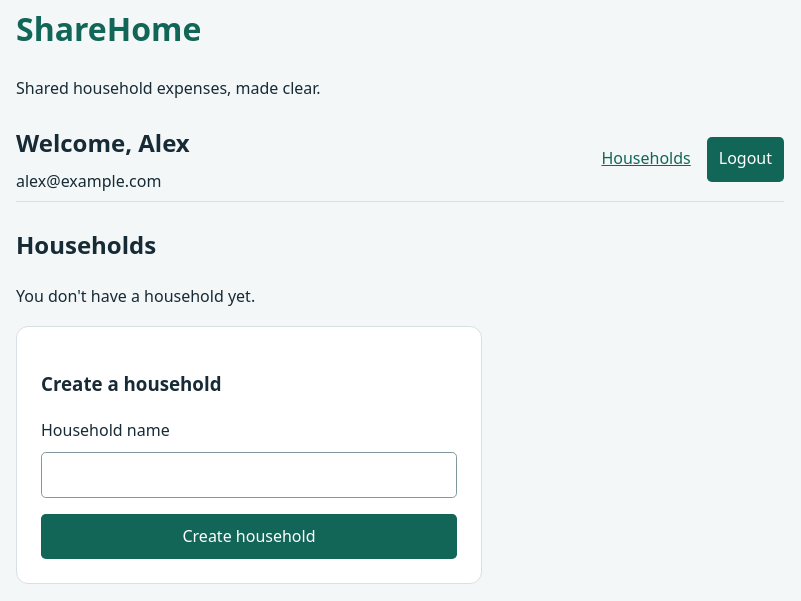
creates, blocks repeat submission and navigates to real fetched detail
This screenshot has width=801, height=601.
Expected: the text "You don't have a household yet." is shown, [16,285,255,307]
Type " Alex Home " into the field labelled "Household name" at point(249, 475), box [41,452,457,498]
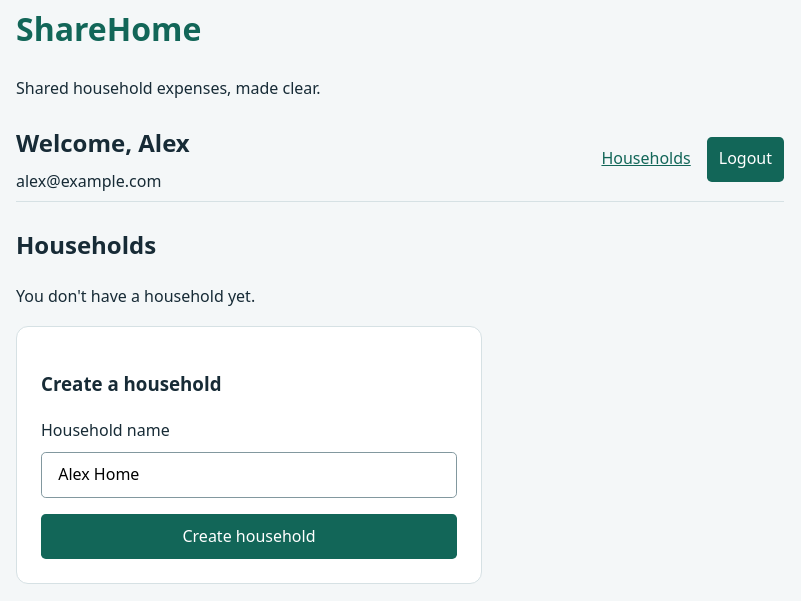
Click the button "Create household" at point(249, 537), box [41,514,457,559]
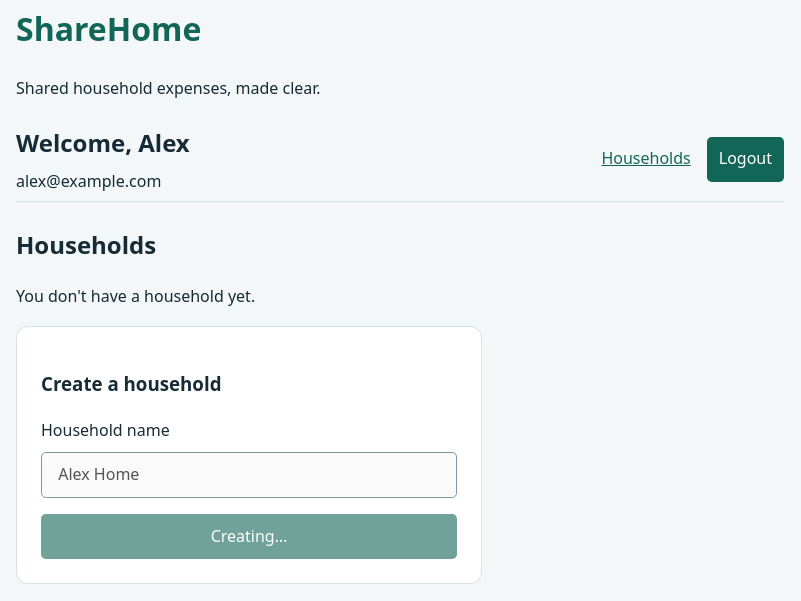
Click the button "Creating…" at point(249, 537), box [41,514,457,559]
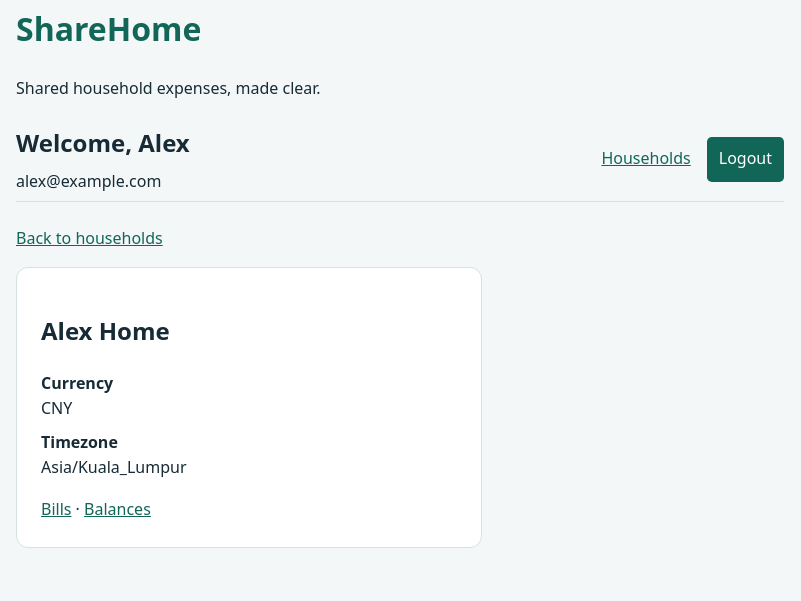
Result: the heading "Alex Home" is shown at [41,314,170,347]
